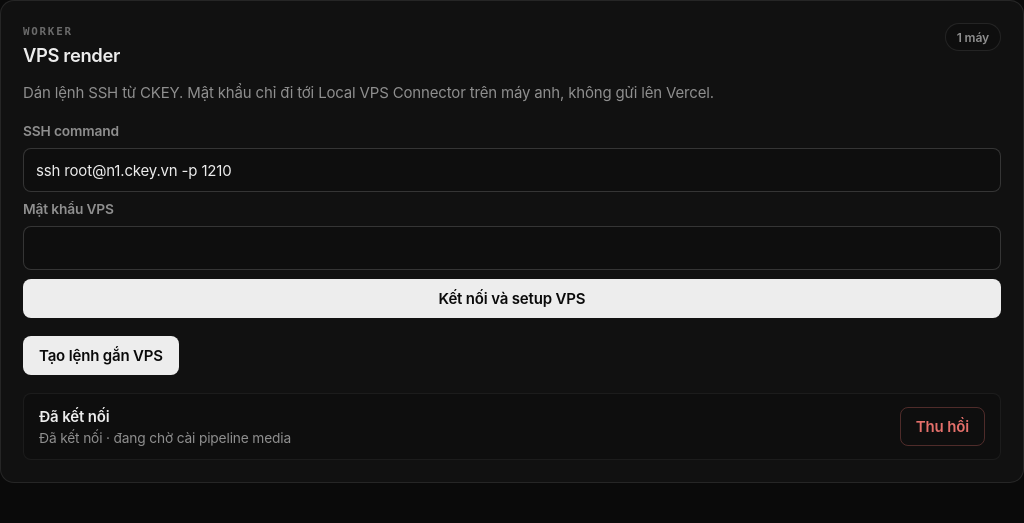
Test: WorkerCard › reports a failed revoke response without refreshing parent state
The width and height of the screenshot is (1024, 523).
Click the button "Thu hồi" at x=942, y=427, box x1=900 y1=407 x2=985 y2=446
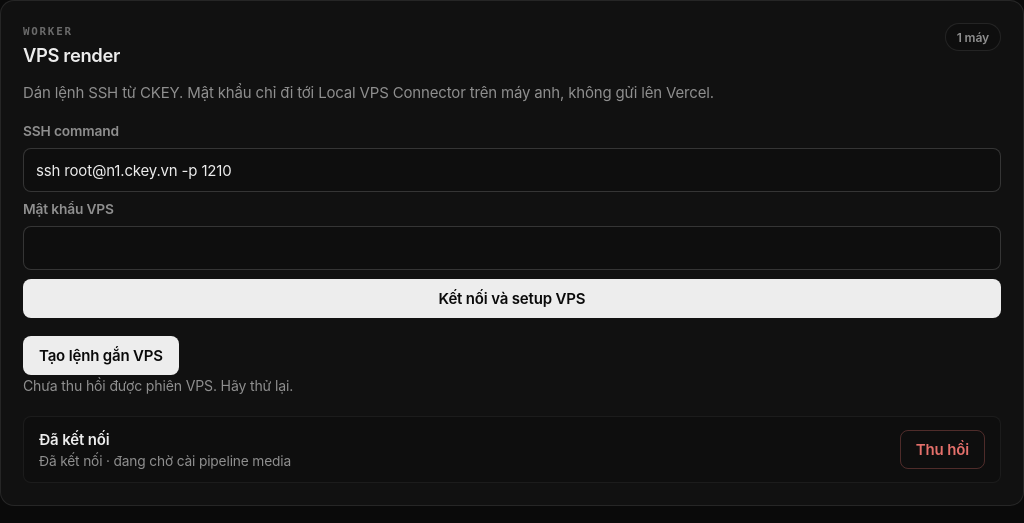
Expected: the text "Chưa thu hồi được phiên VPS. Hãy thử lại." is shown, x1=23 y1=377 x2=293 y2=394
